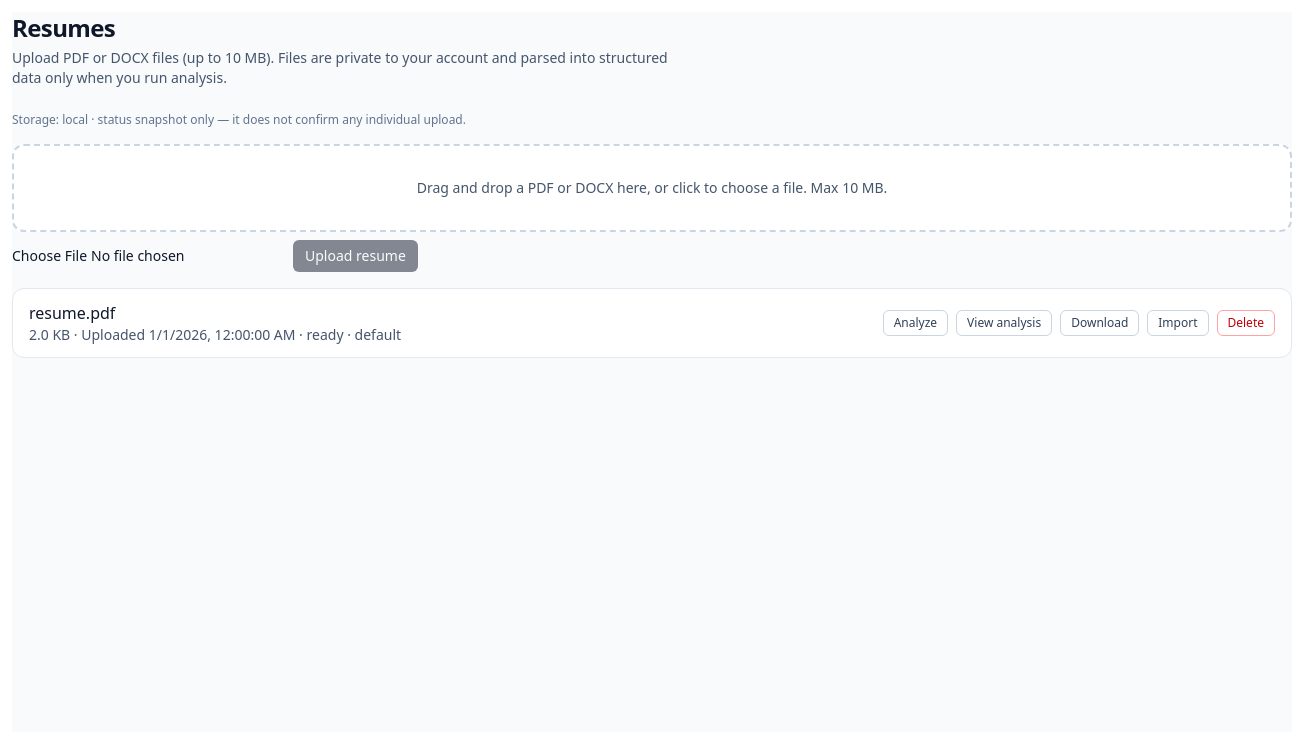
it: ResumesPage download, import, delete › imports parsed fields without overwriting verified data
Expected: the text "resume.pdf" is shown, 29,302 -> 115,324
Click the button "Import".
click(1178, 323)  # box 1147,310 -> 1208,336
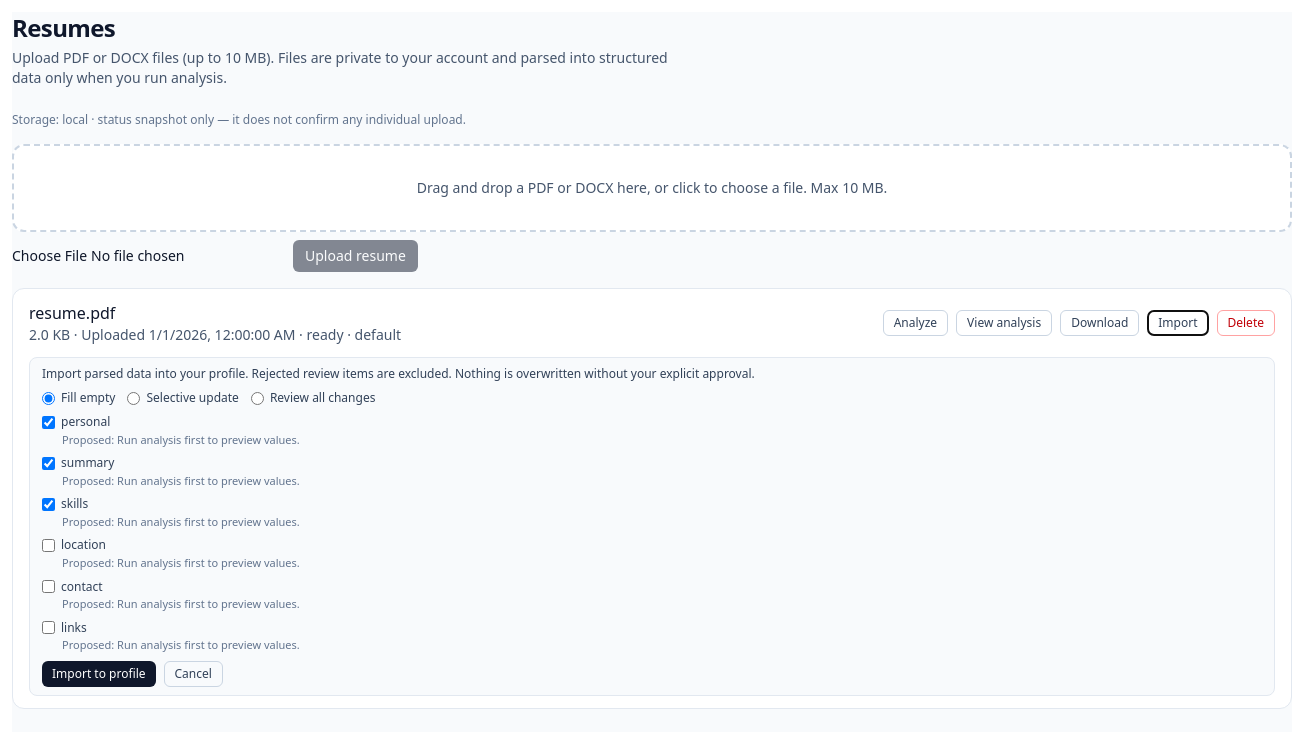
Click the button "Import to profile".
click(99, 674)  # box 42,661 -> 156,687
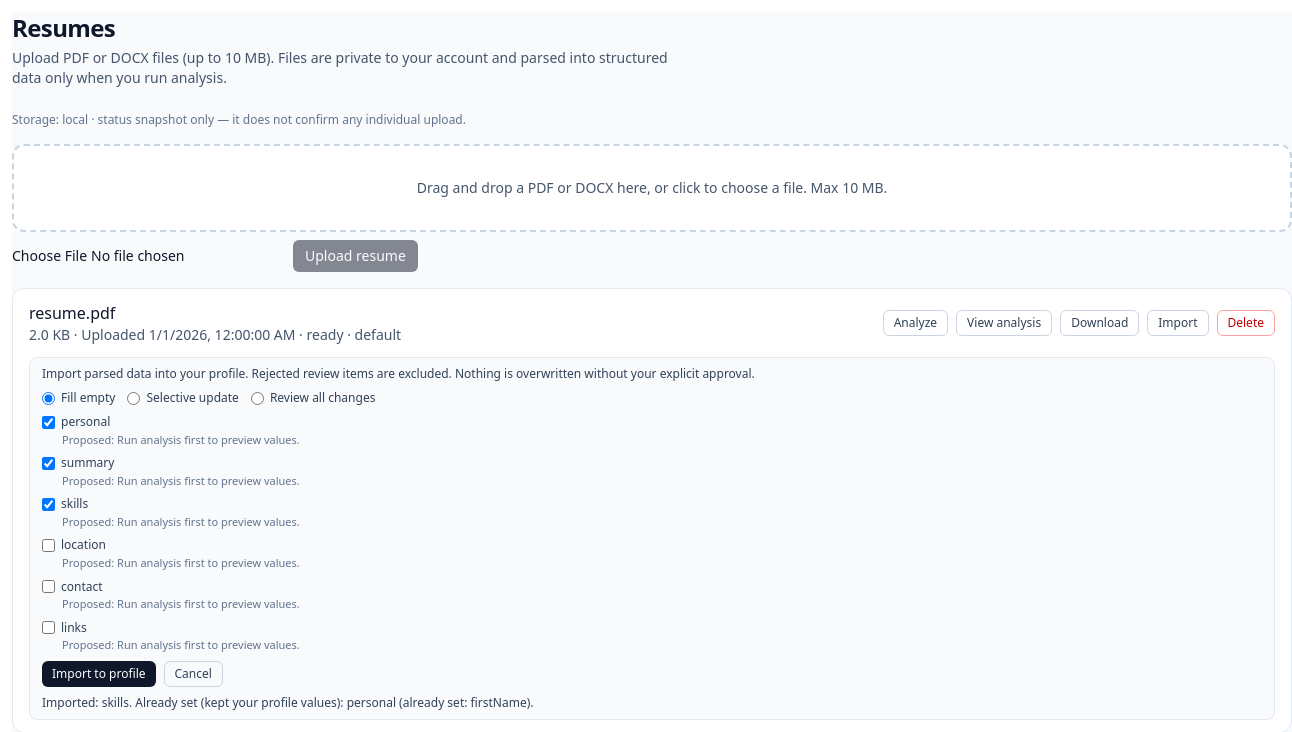
Now the text "Already set" is shown, box 42,694 -> 534,711
